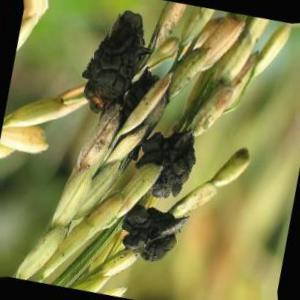Leaf_Scald: (87, 16, 144, 109), (149, 127, 189, 198), (130, 206, 174, 259)
